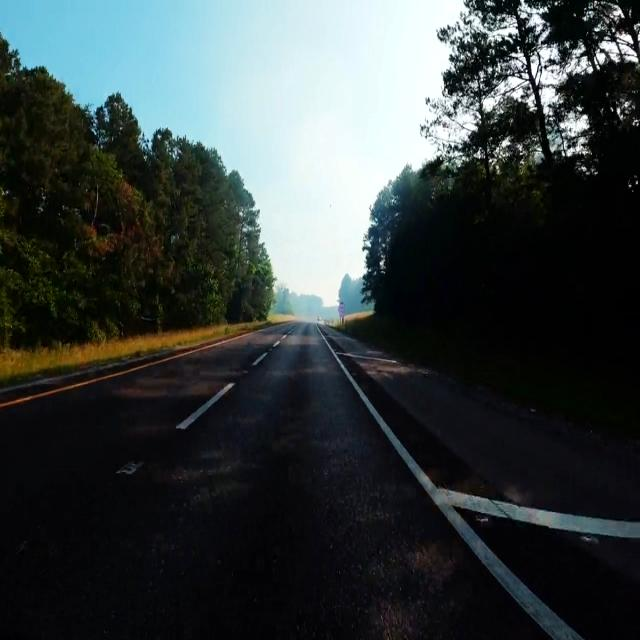road: (0, 323, 544, 637), (468, 514, 640, 636)
